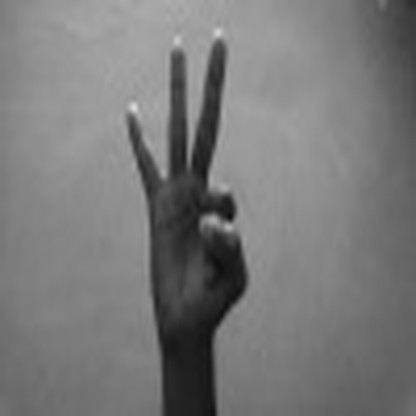f: (123, 26, 252, 326)
